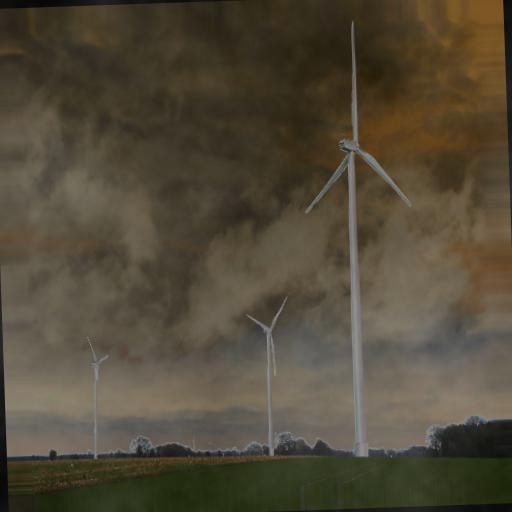wind turbine: (304, 20, 413, 457), (242, 294, 291, 456), (84, 337, 114, 458)
